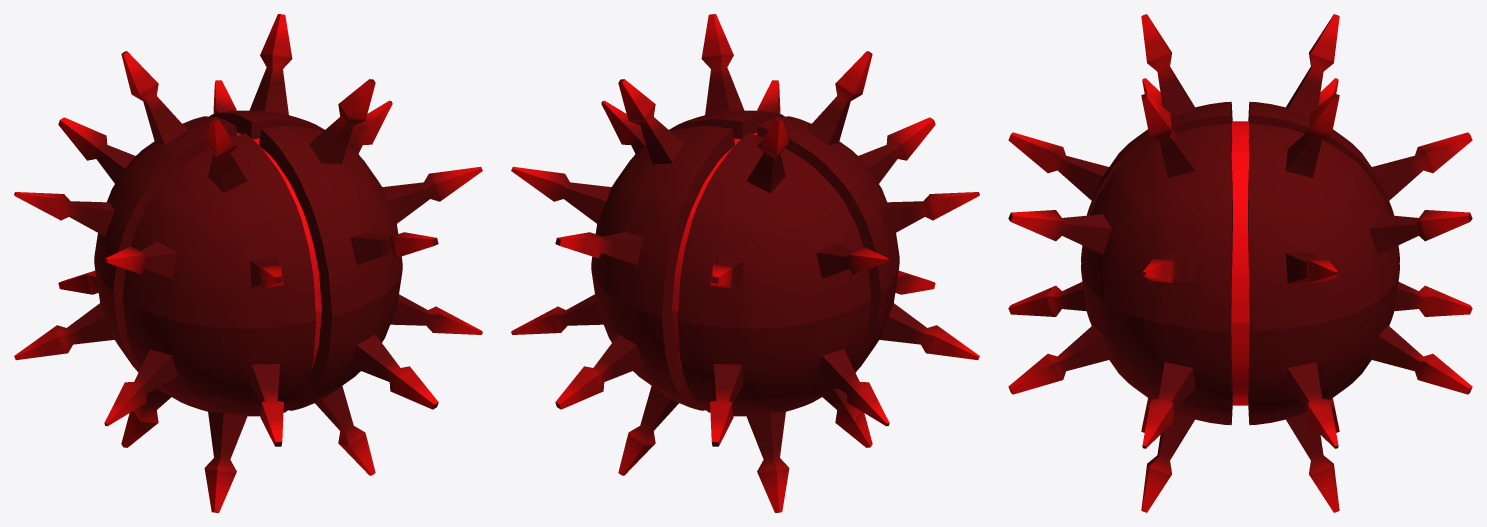
File: mine.fbx
The picture shows the model from 3 angles, left to right: view 1: azimuth 30°, elevation 25°; view 2: azimuth 150°, elevation 25°; view 3: azimuth 270°, elevation 25°; orthographic projection. The views are drawn at different scales.
Parts seen in each view (by area): view 1: pCube1; view 2: pCube1; view 3: pCube1.
Boxes of the visible parts, left/top/right/bottom form: pCube1: left=14, top=14, right=482, bottom=512; pCube1: left=511, top=14, right=979, bottom=512; pCube1: left=1008, top=14, right=1472, bottom=512.
Bounding box in the file's own units: 20.5 × 20.55 × 20.63.
